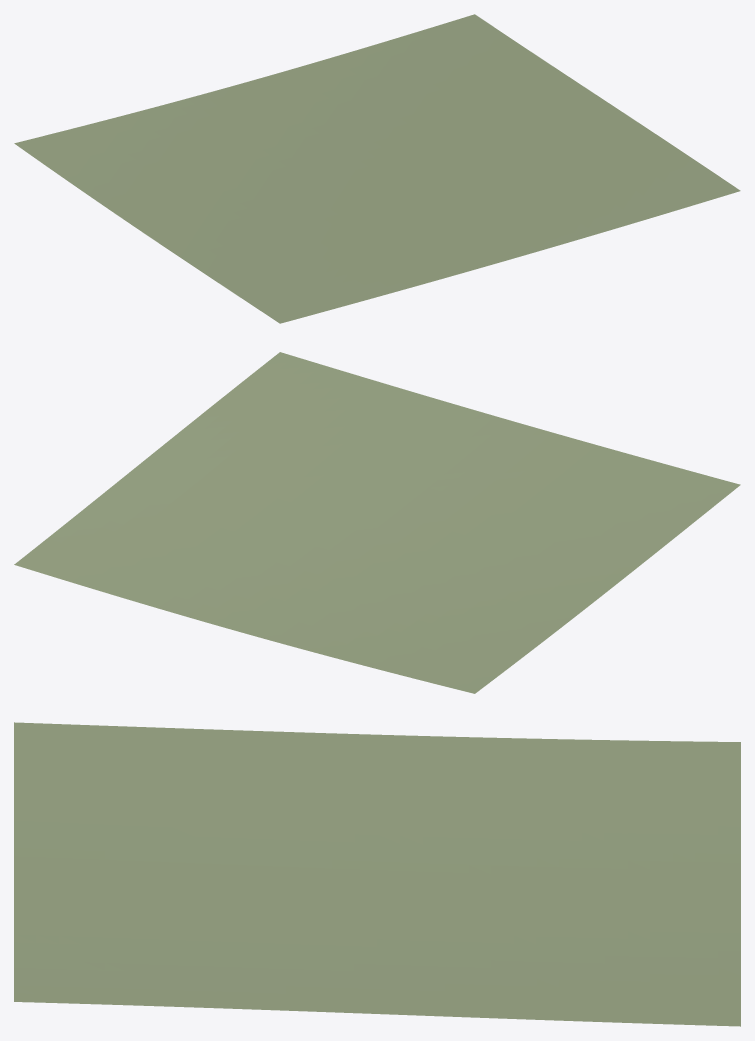
File: expanse-10-24.glb
The picture shows the model from 3 angles, top to bottom: view 1: azimuth 30°, elevation 25°; view 2: azimuth 150°, elevation 25°; view 3: azimuth 270°, elevation 25°; orthographic projection. The views are drawn at different scales.
Parts seen in each view (by area): view 1: expanse-10-24; view 2: expanse-10-24; view 3: expanse-10-24.
Boxes of the visible parts, x1,y1,x2,y2 form: expanse-10-24: (14,14,740,323); expanse-10-24: (14,352,740,693); expanse-10-24: (14,722,740,1026).
Size of the model in its own units: 256 by 18.43 by 256.
